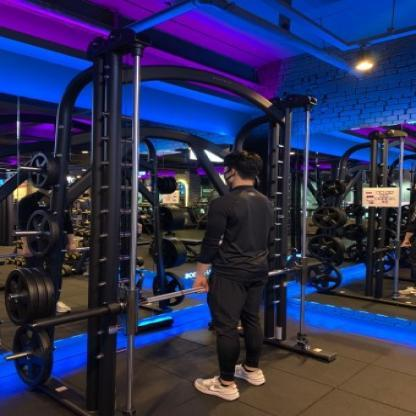smith machine: (27, 32, 338, 416)
